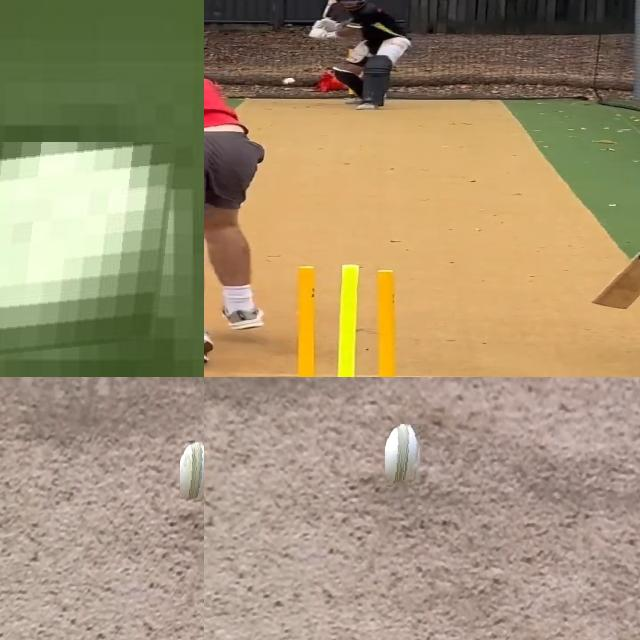Cricket ball: (0, 142, 180, 364), (385, 424, 422, 488), (180, 441, 204, 502), (283, 78, 298, 87)
Stumps: (278, 263, 412, 377)
